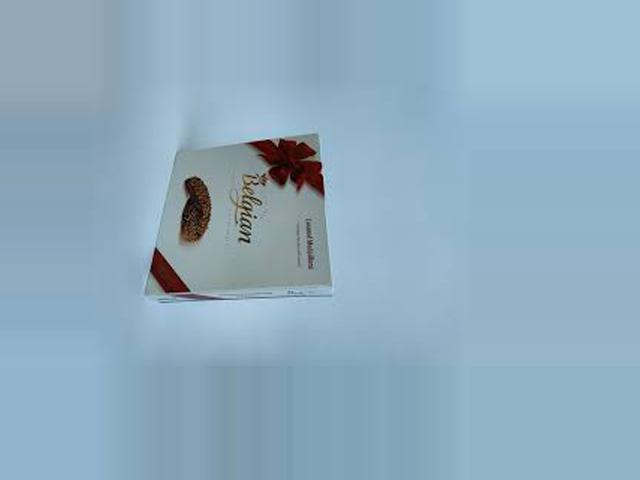chocolate: (136, 129, 326, 336)
